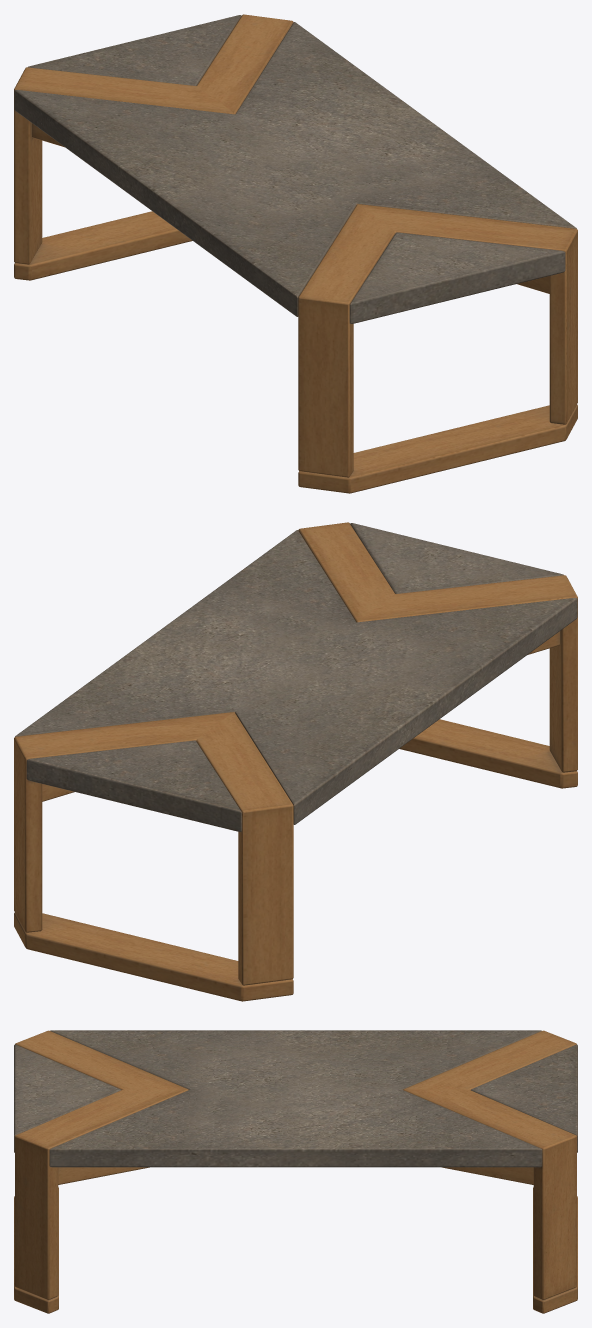
File: fu_coffee_concrete.fbx
3 views of the same model, one above another, from view 1: azimuth 30°, elevation 25°; view 2: azimuth 150°, elevation 25°; view 3: azimuth 270°, elevation 25° (orthographic). The views are drawn at different scales.
Visible parts, largest first — view 1: fu_coffee_concrete_LOD0; view 2: fu_coffee_concrete_LOD0; view 3: fu_coffee_concrete_LOD0.
Part boxes in pixels (bbox=[...]): fu_coffee_concrete_LOD0: bbox=[14, 14, 577, 493]; fu_coffee_concrete_LOD0: bbox=[14, 522, 577, 1001]; fu_coffee_concrete_LOD0: bbox=[14, 1030, 577, 1313].
Size of what is drawn, in the model's own units: 0.6 by 0.39 by 1.2.
